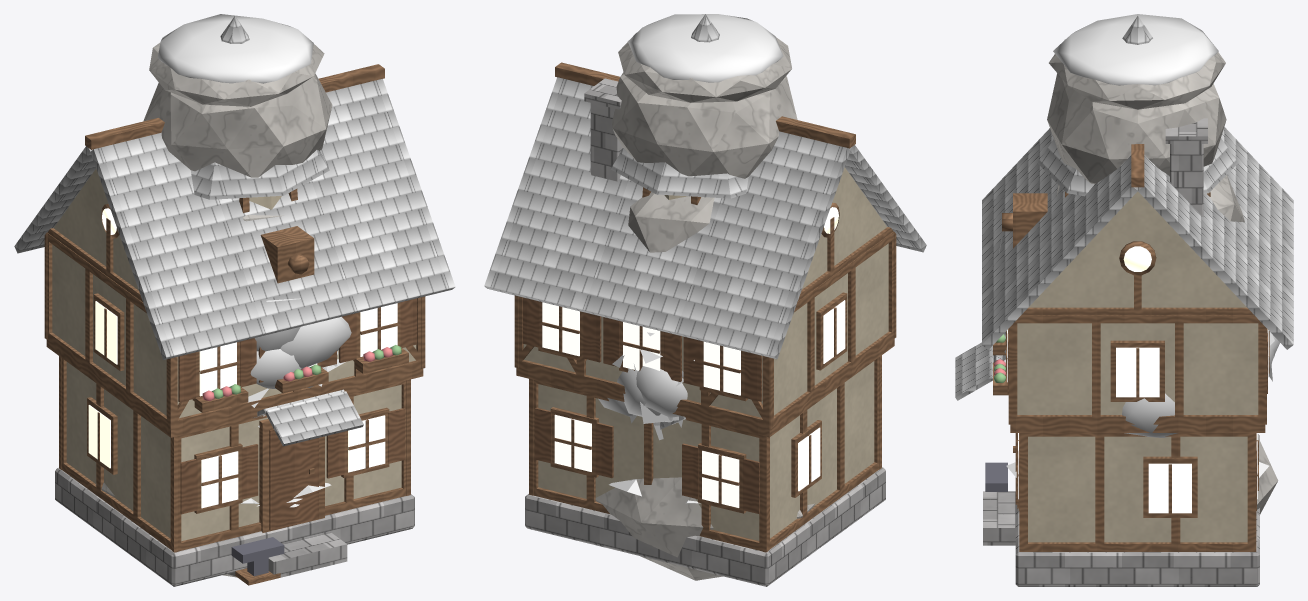
File: props_genshin.glb
The picture shows the model from 3 angles, left to right: view 1: azimuth 30°, elevation 25°; view 2: azimuth 150°, elevation 25°; view 3: azimuth 270°, elevation 25°; orthographic projection. The views are drawn at different scales.
Parts seen in each view (by area): view 1: House, Spire, WindmillBase, TreeRound, Forge, TreeRound2; view 2: House, Spire, WindmillBase, TreeRound, TreeRound2; view 3: House, Spire, WindmillBase, TreeRound, Forge.
Part boxes in pixels (x1,y1,x2,y2): House: [14, 64, 455, 586]; Spire: [95, 14, 332, 577]; WindmillBase: [190, 16, 329, 283]; TreeRound: [248, 298, 351, 407]; Forge: [231, 537, 284, 585]; TreeRound2: [250, 349, 301, 416]; House: [484, 62, 926, 586]; Spire: [595, 14, 814, 580]; WindmillBase: [610, 14, 748, 204]; TreeRound: [598, 332, 694, 427]; TreeRound2: [617, 368, 683, 440]; House: [955, 118, 1293, 586]; Spire: [1047, 14, 1278, 514]; WindmillBase: [1002, 16, 1237, 248]; TreeRound: [999, 233, 1279, 437]; Forge: [985, 462, 1007, 491].
Size of the model in its own units: 6.4 by 11.36 by 6.23.
52 materials, 16 textured.
